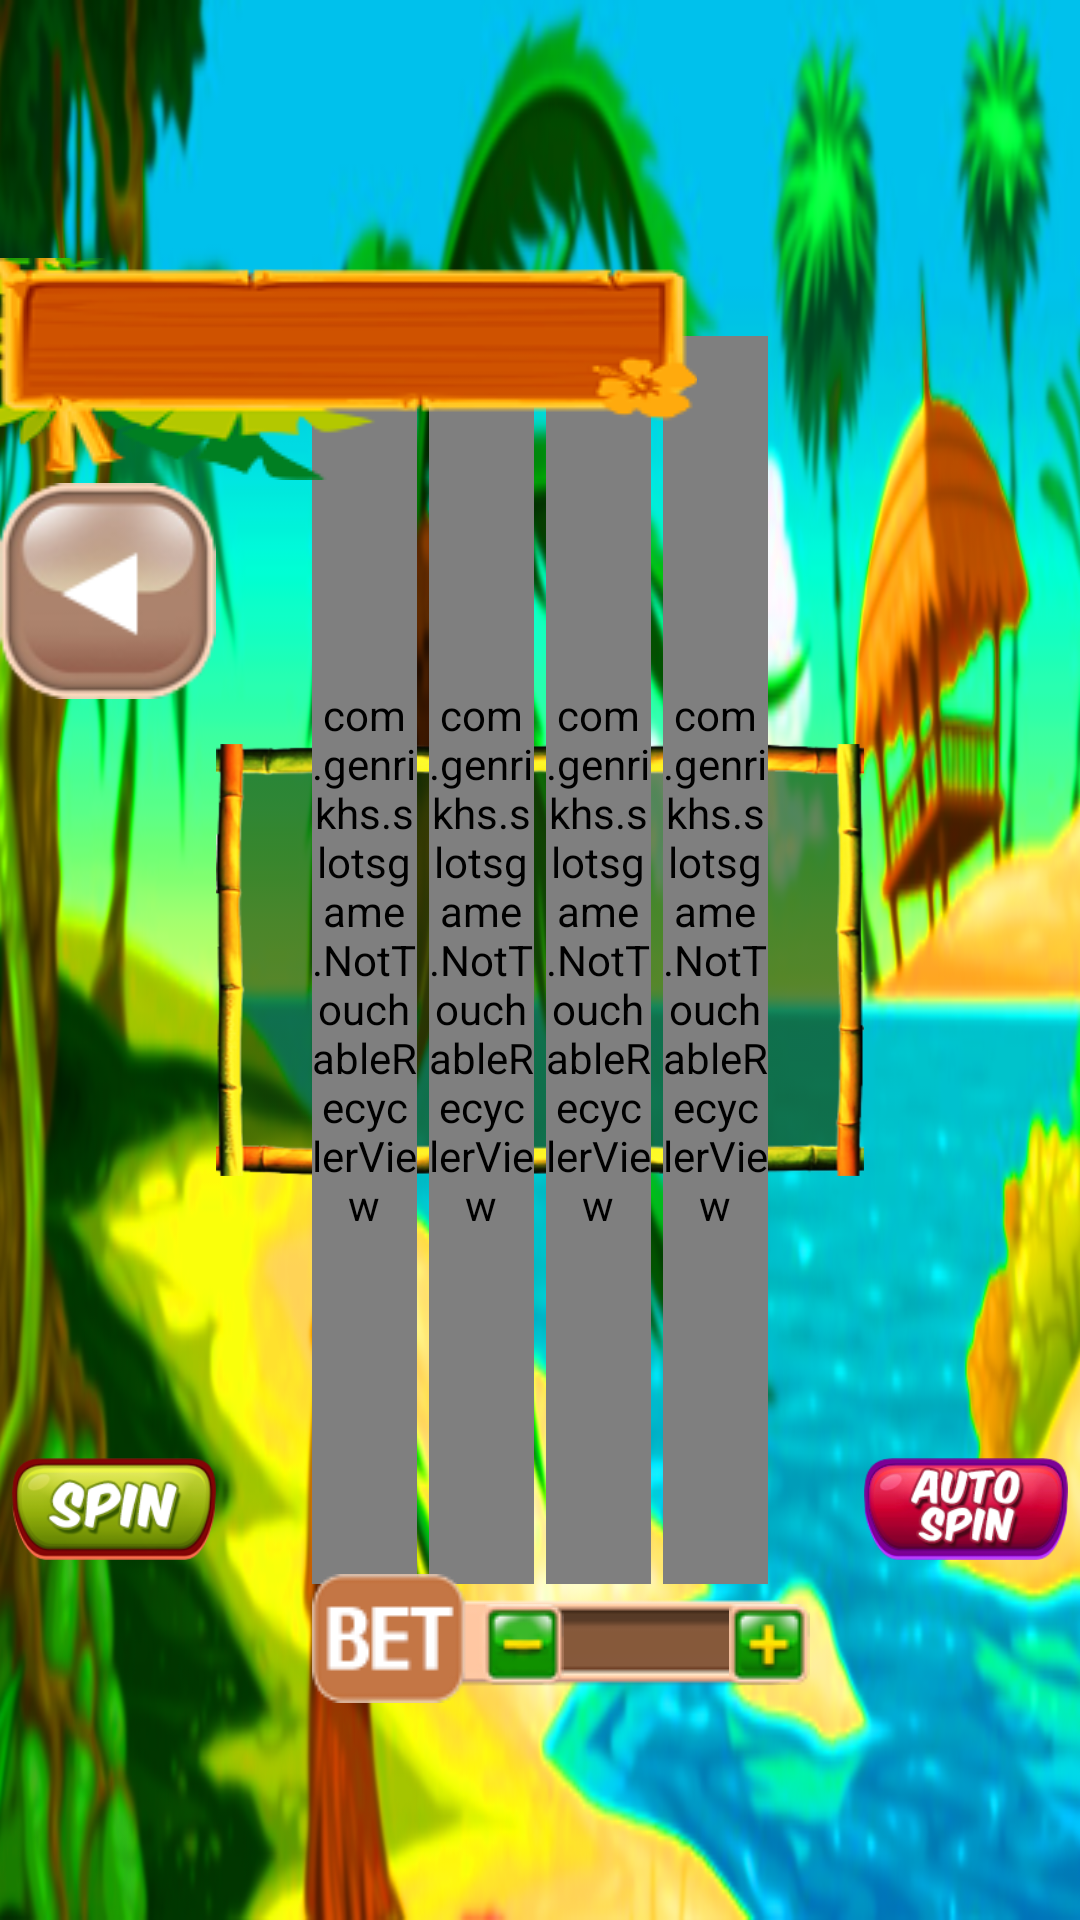

Point at icon controls on the screen. Image size 1080w x 1920h, points as (x,y).
bott back: (108,591)
